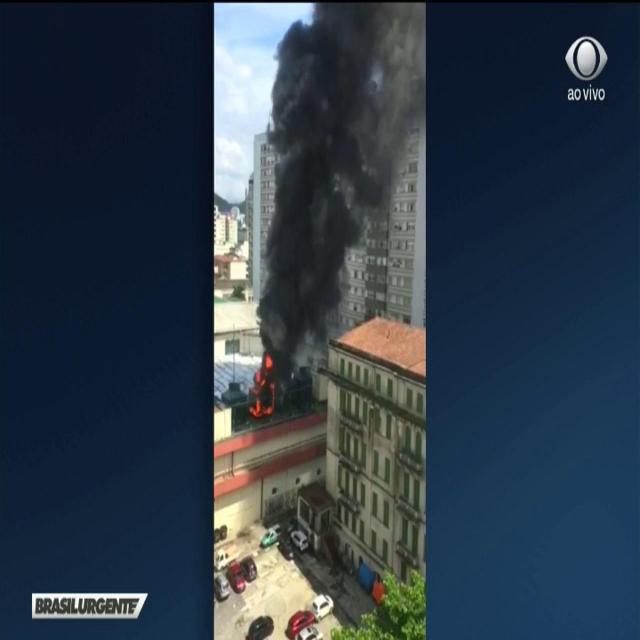Fire: (250, 401, 272, 418), (252, 371, 266, 396), (264, 354, 272, 366)
Smoke: (260, 0, 428, 352)
